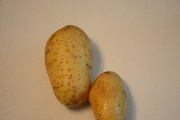potato: (46, 25, 92, 107), (89, 70, 127, 120)
